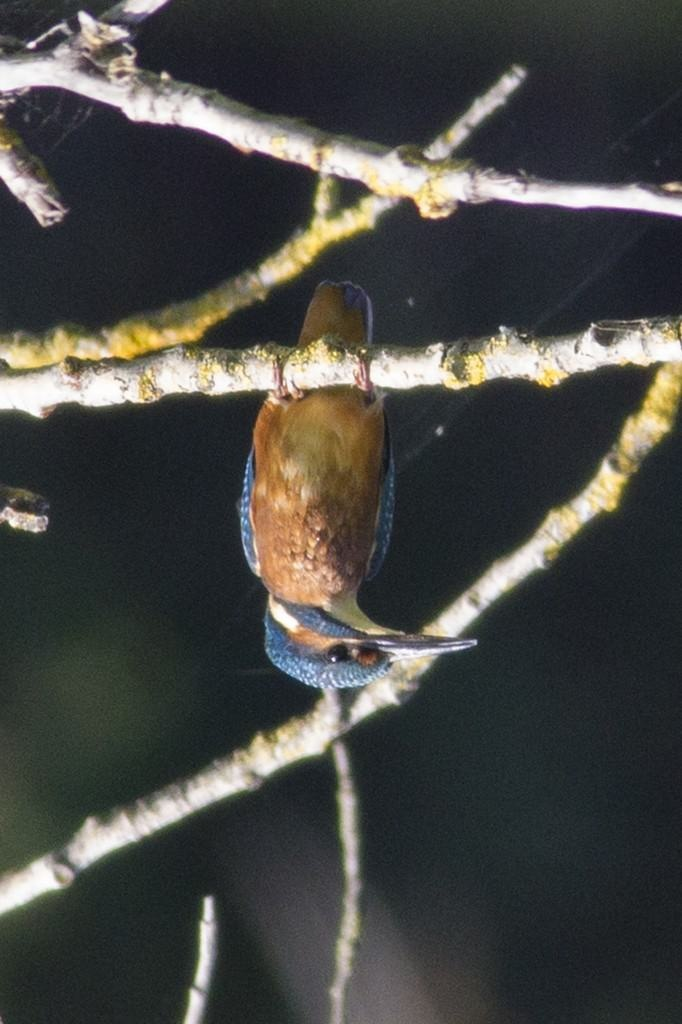kingfisher: (216, 283, 480, 727)
